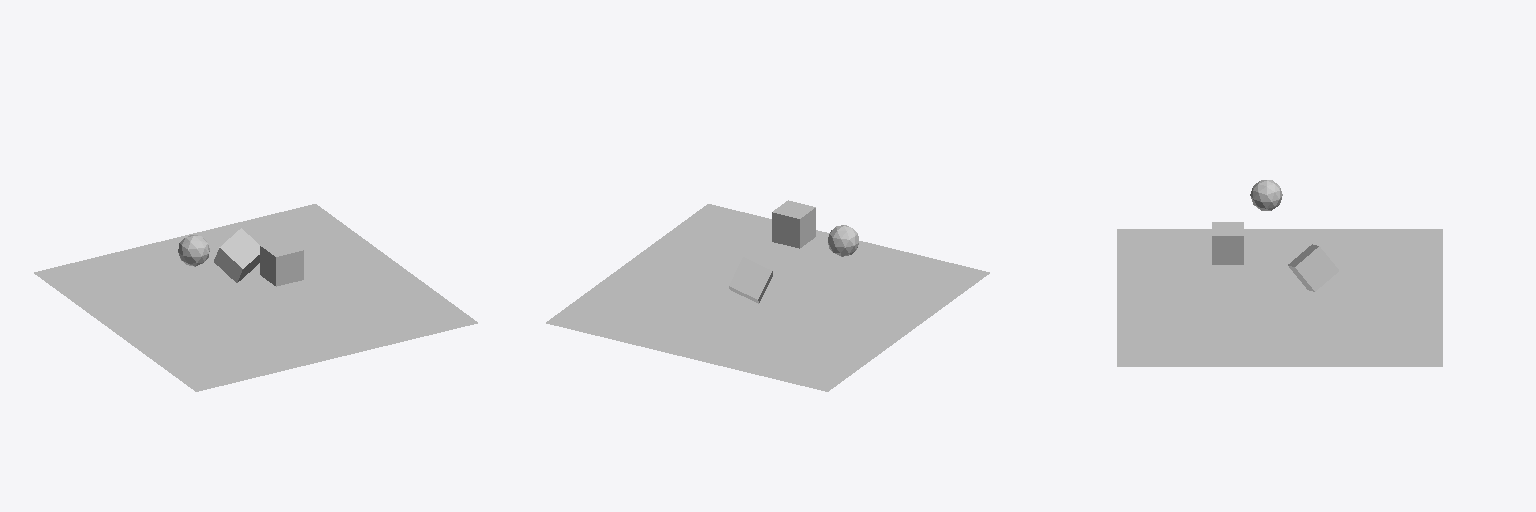
File: shadow_scene.obj
3 renders of one model, left to right at view 1: azimuth 30°, elevation 25°; view 2: azimuth 150°, elevation 25°; view 3: azimuth 270°, elevation 25°, orthographic.
Parts seen in each view (by area): view 1: Plane, Cube, Cube.001, Icosphere; view 2: Plane, Cube, Cube.001, Icosphere; view 3: Plane, Cube.001, Cube, Icosphere.
Boxes of the visible parts, <box> form: Plane: <box>34,204,477,391</box>; Cube: <box>260,238,303,286</box>; Cube.001: <box>214,228,259,282</box>; Icosphere: <box>178,235,209,266</box>; Plane: <box>546,204,989,391</box>; Cube: <box>772,200,815,248</box>; Cube.001: <box>729,257,772,303</box>; Icosphere: <box>828,225,858,256</box>; Plane: <box>1117,229,1442,366</box>; Cube.001: <box>1288,244,1338,291</box>; Cube: <box>1212,222,1243,264</box>; Icosphere: <box>1250,180,1282,210</box>.
Size of the model in its own units: 20 by 5.66 by 20.